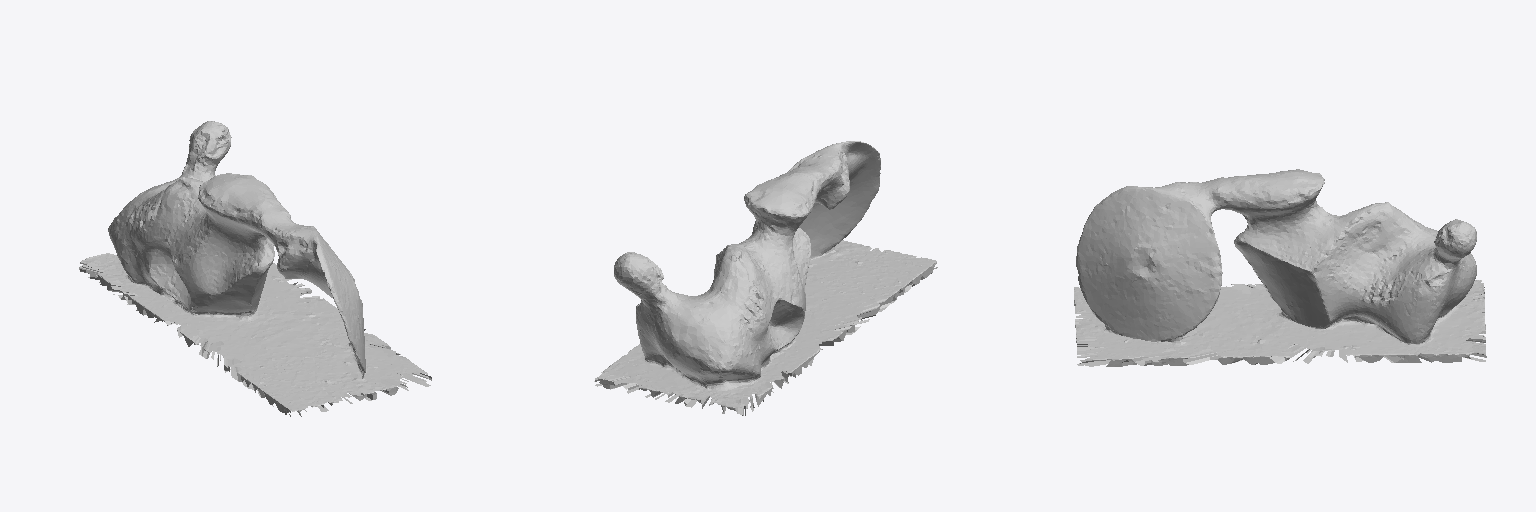
Rendered from goslar32k.obj.
3 views of the same model, side by side, from view 1: azimuth 30°, elevation 25°; view 2: azimuth 150°, elevation 25°; view 3: azimuth 270°, elevation 25° (orthographic).
Size of the model in its own units: 2.78 by 2.56 by 6.48.